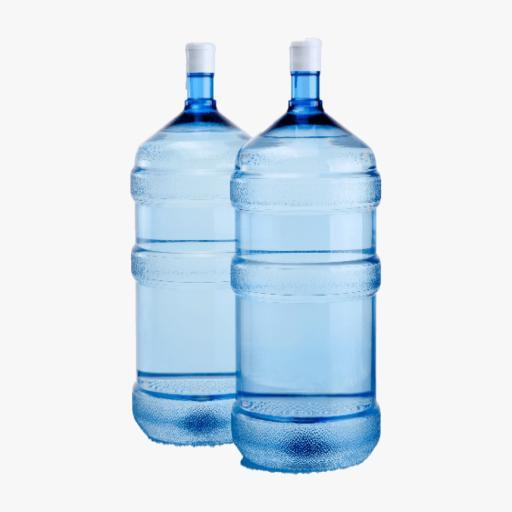bottle: (227, 34, 386, 478), (126, 36, 260, 454)
